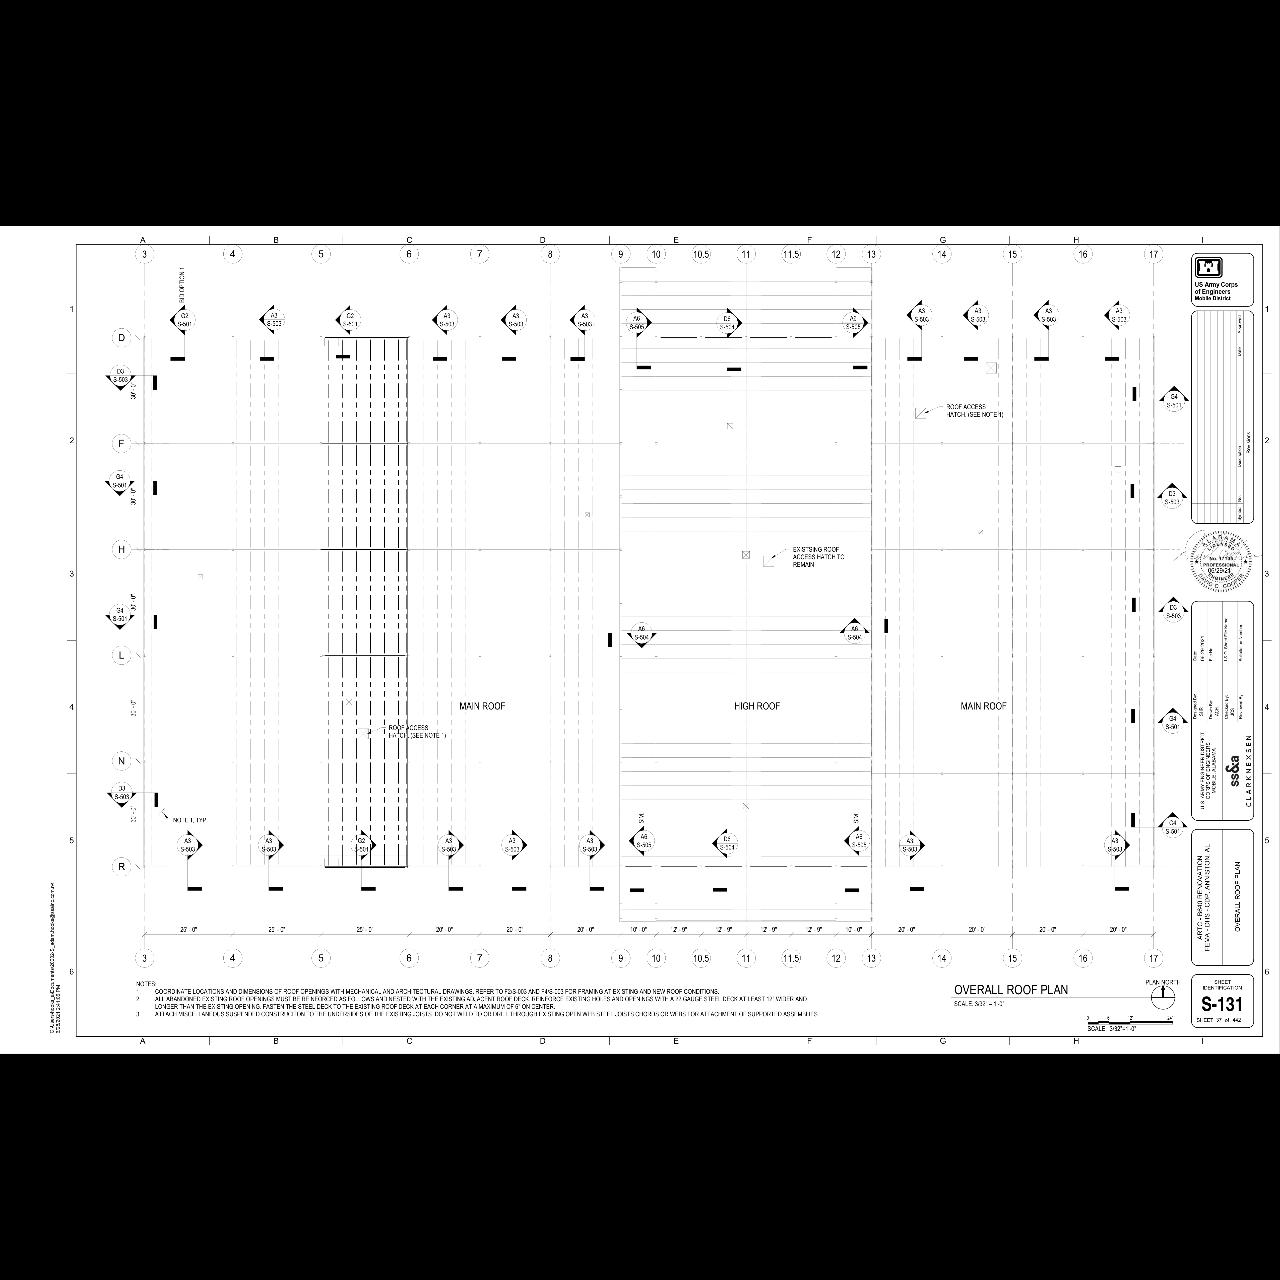elevation: (1098, 826, 1133, 864), (709, 824, 743, 862), (622, 304, 655, 342), (840, 823, 874, 859), (1101, 298, 1135, 334), (102, 599, 137, 633), (565, 302, 599, 338), (1156, 593, 1191, 627), (101, 467, 137, 499), (254, 826, 286, 864), (435, 828, 468, 863), (166, 302, 199, 338), (627, 823, 659, 859), (1156, 382, 1192, 414), (905, 297, 935, 334), (346, 829, 380, 862), (104, 779, 139, 811), (103, 362, 138, 394), (429, 302, 461, 338), (499, 302, 531, 338), (961, 298, 993, 333), (1156, 809, 1191, 840), (715, 304, 745, 340), (838, 615, 872, 647), (175, 828, 205, 863), (577, 828, 607, 863), (897, 828, 927, 863), (625, 620, 660, 651), (257, 301, 287, 336), (333, 302, 363, 338), (1033, 298, 1063, 333), (840, 306, 871, 340), (1155, 704, 1189, 735), (499, 828, 529, 862), (1156, 482, 1189, 511)
title: (949, 979, 1144, 1009)
